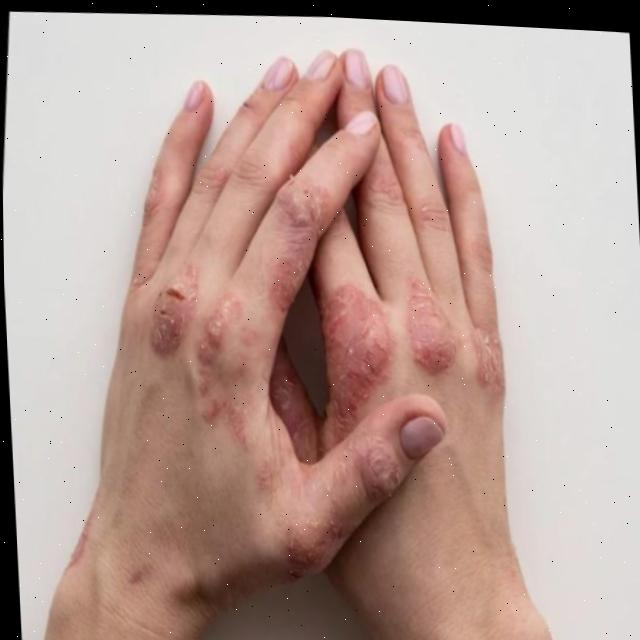Eczema: (139, 173, 462, 576)
